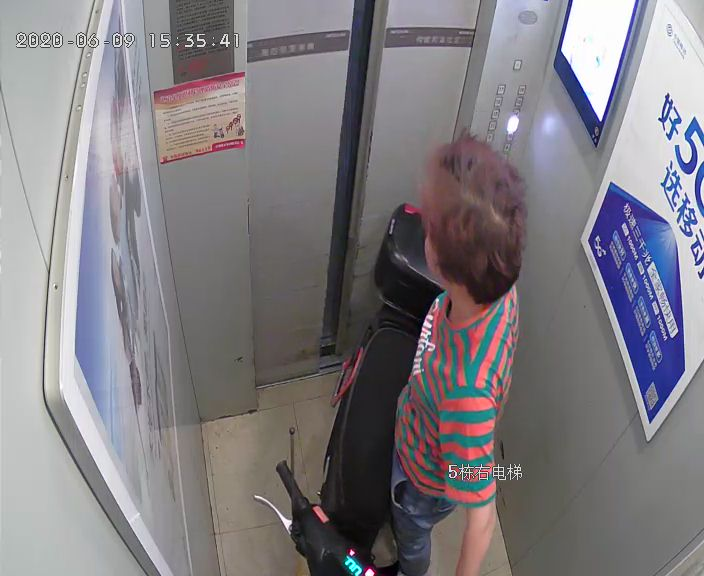Electric-bicycle: (282, 205, 462, 573)
